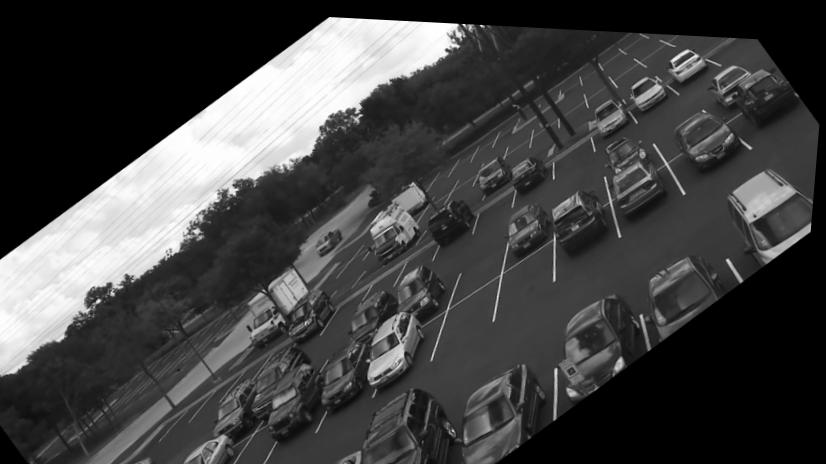empty: (435, 275, 492, 355), (504, 236, 557, 304), (463, 231, 503, 287), (648, 91, 697, 135), (554, 128, 598, 175), (329, 286, 370, 328), (367, 258, 408, 296), (177, 390, 220, 426), (239, 423, 275, 464), (480, 186, 514, 226), (705, 30, 752, 58), (207, 374, 244, 409), (344, 236, 377, 270), (239, 351, 274, 383), (565, 163, 599, 195), (612, 55, 649, 84), (403, 239, 437, 270), (639, 35, 674, 63), (560, 92, 590, 123), (315, 332, 347, 361), (530, 113, 559, 144), (588, 74, 618, 103), (448, 171, 477, 199), (631, 30, 663, 55), (422, 188, 450, 216), (581, 68, 613, 92), (606, 49, 637, 72), (579, 54, 605, 81), (535, 101, 560, 129), (560, 84, 585, 110), (508, 119, 534, 144), (432, 171, 457, 196), (653, 39, 679, 63), (497, 109, 518, 138), (485, 134, 508, 160), (457, 156, 483, 179), (597, 41, 625, 62), (508, 131, 532, 155), (687, 28, 719, 46), (561, 67, 582, 91), (475, 130, 495, 155), (432, 160, 454, 182), (620, 26, 644, 46), (454, 145, 474, 168), (458, 184, 483, 197), (530, 139, 549, 152), (667, 28, 692, 37), (657, 27, 672, 34)
occupied: (554, 274, 646, 411), (715, 156, 816, 260), (465, 349, 545, 464), (648, 239, 729, 333), (372, 382, 459, 464), (371, 306, 438, 385), (672, 95, 745, 165), (728, 56, 801, 123), (274, 359, 329, 434), (554, 182, 610, 255), (611, 146, 670, 215), (328, 337, 378, 411), (283, 285, 341, 344), (372, 197, 423, 261), (261, 343, 313, 401), (352, 286, 405, 339), (401, 260, 451, 311), (431, 194, 480, 246), (221, 376, 260, 435), (512, 199, 554, 253), (189, 431, 242, 464), (708, 58, 752, 97), (666, 41, 709, 80), (476, 150, 515, 190), (512, 150, 550, 191), (607, 131, 652, 162), (595, 92, 630, 131), (631, 69, 668, 105), (139, 455, 163, 464)
